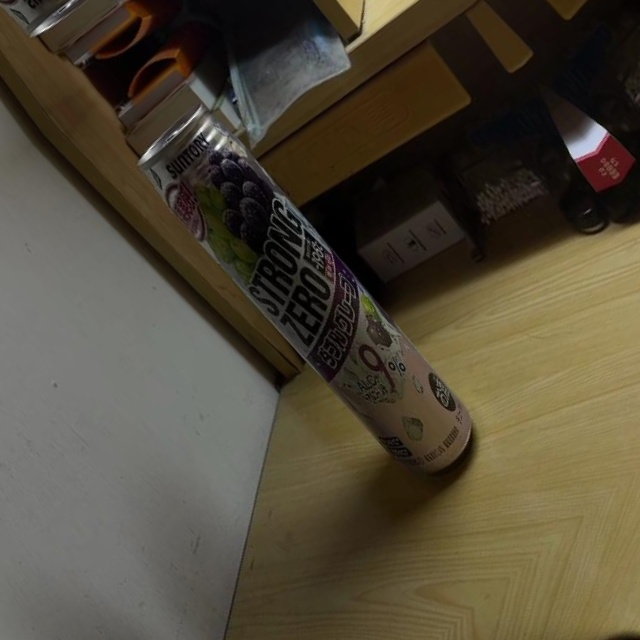Liquor: (127, 94, 488, 499)
